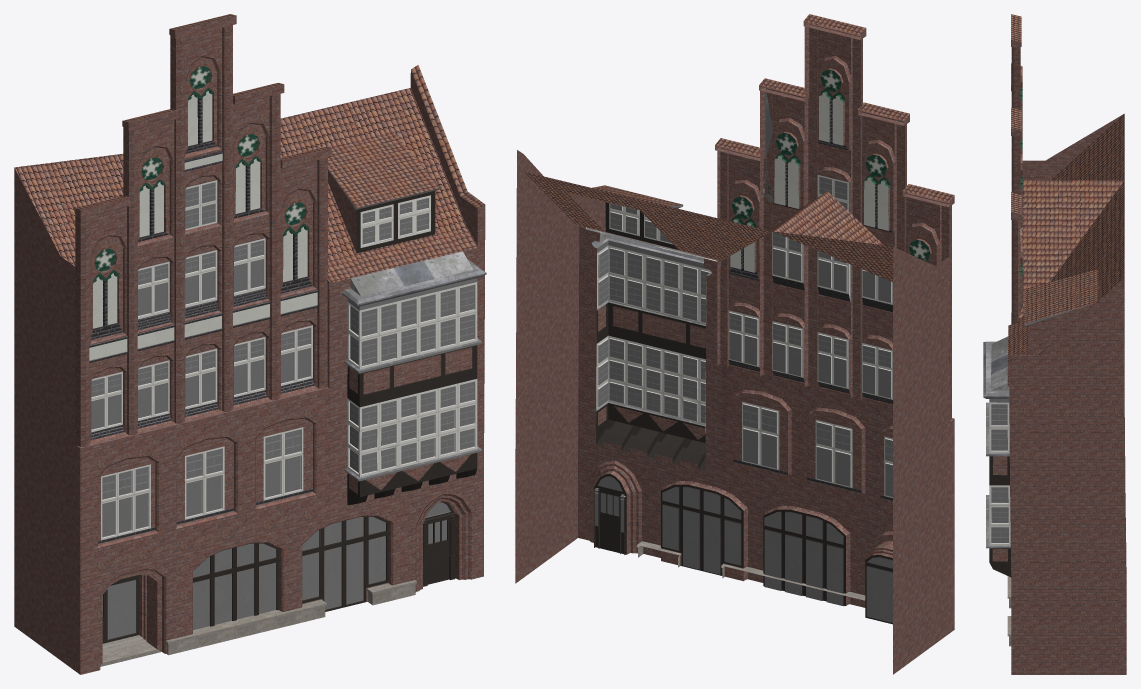
The model's file is Building.fbx.
3 renders of one model, left to right at view 1: azimuth 30°, elevation 25°; view 2: azimuth 150°, elevation 25°; view 3: azimuth 270°, elevation 25°, orthographic. The views are drawn at different scales.
Parts seen in each view (by area): view 1: Building; view 2: Building; view 3: Building.
Part boxes in pixels (x1,y1,x2,y2): Building: (14,14,486,674); Building: (515,14,954,674); Building: (983,14,1126,674).
Size of the model in its own units: 1382 by 2036 by 497.
Materials: 3 (3 with a texture image).
